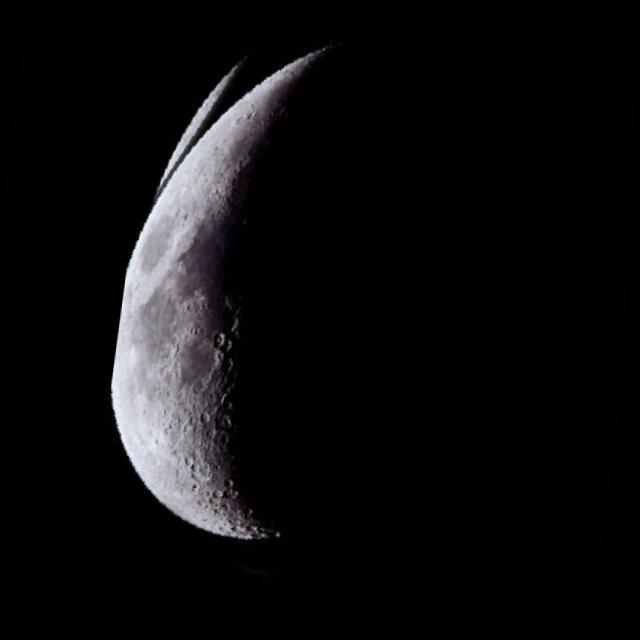moon: (89, 6, 619, 640)
